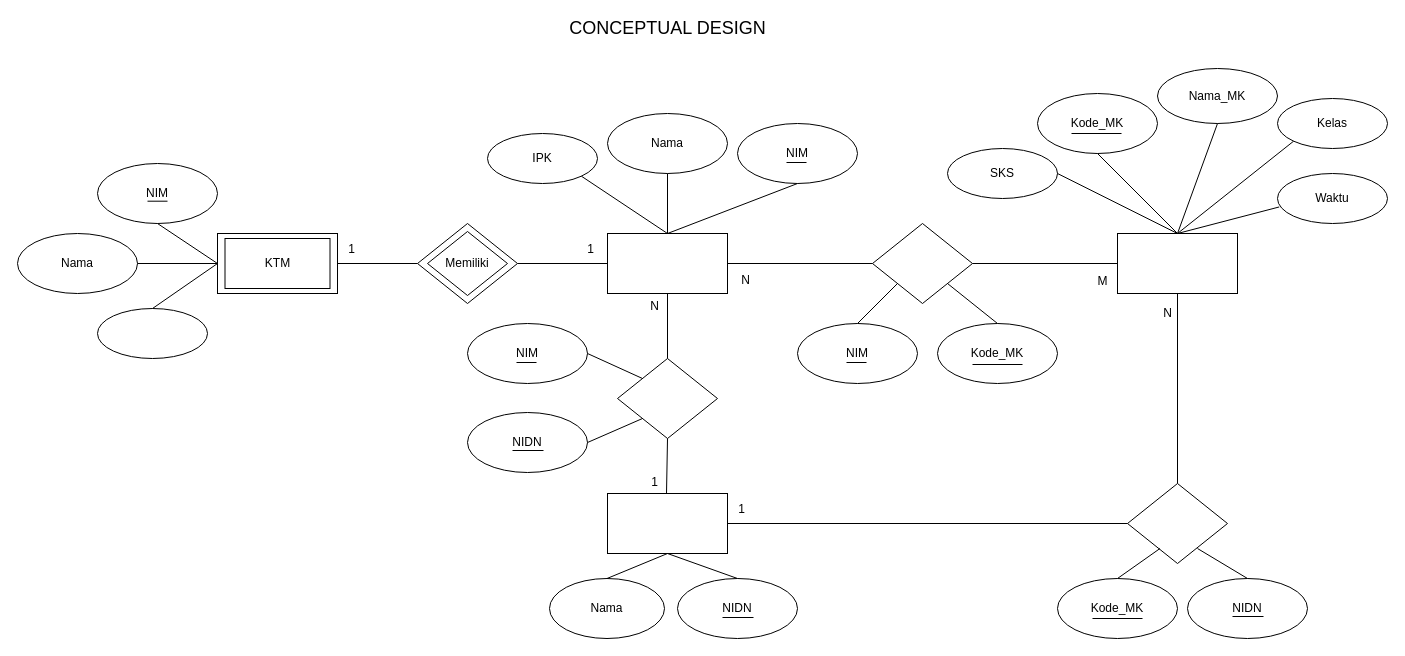
Some shapes in this 1405 by 656 pixel diagram are drawn without their labels. The shapes that lost their labels are listed below. From the top down, each one's centre as x and y in pixels, then its label:
At (667,263): "Mahasiswa".
At (922,263): "Mengambil".
At (1177,263): "Mata_Kuliah".
At (152,333): "Program_Studi".
At (667,398): "Membimbing".
At (667,523): "Dosen".
At (1177,523): "Mengajar".
